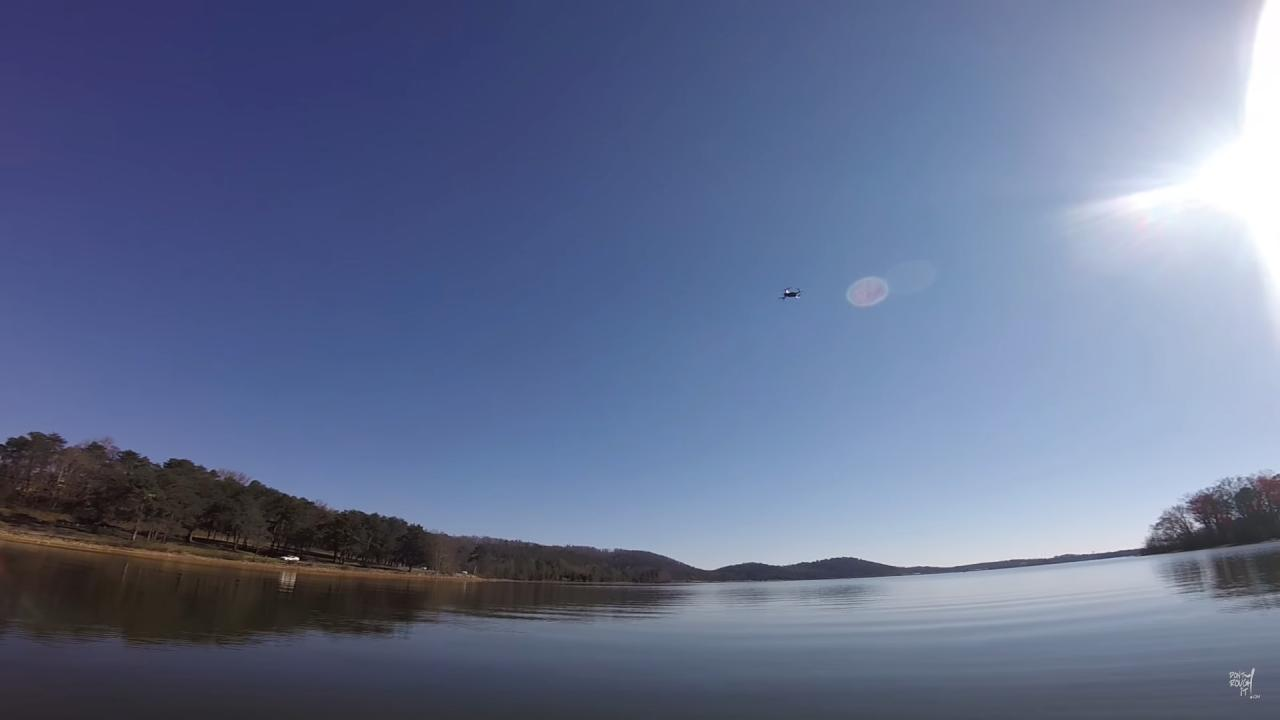Drone: (770, 278, 811, 312)
